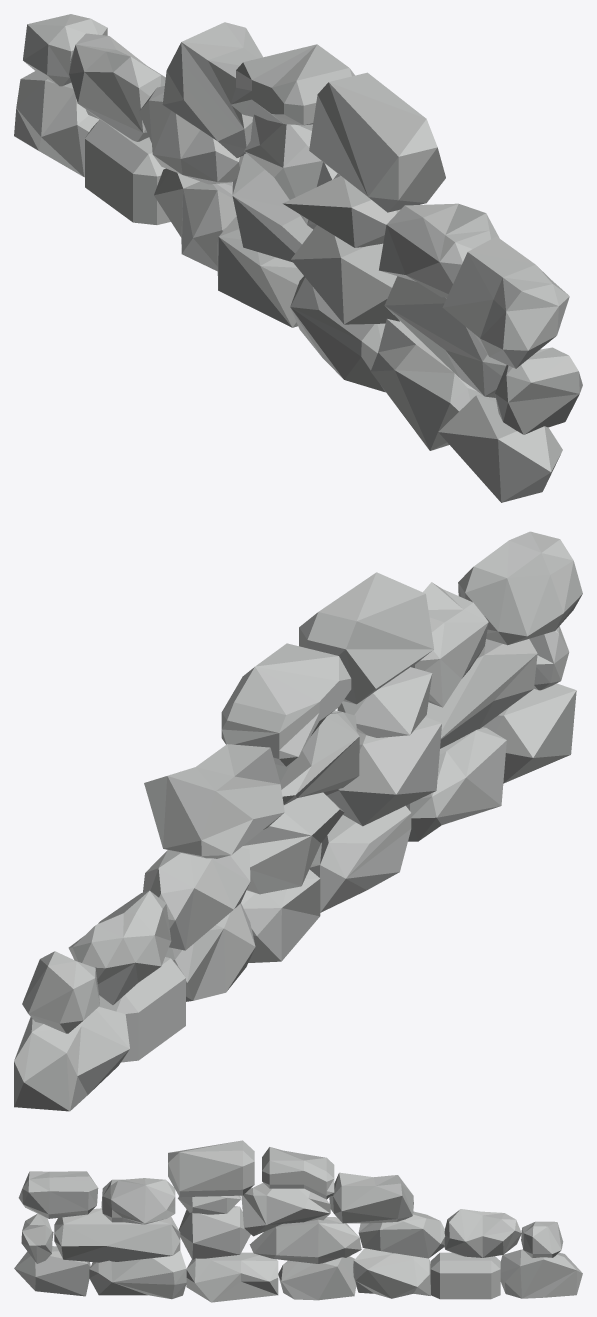
The model's file is Fence_04.glb.
3 renders of one model, top to bottom at view 1: azimuth 30°, elevation 25°; view 2: azimuth 150°, elevation 25°; view 3: azimuth 270°, elevation 25°, orthographic. The views are drawn at different scales.
Parts seen in each view (by area): view 1: Fense_4_stone_1; view 2: Fense_4_stone_1; view 3: Fense_4_stone_1.
Boxes of the visible parts, x1,y1,x2,y2 form: Fense_4_stone_1: (14, 14, 582, 502); Fense_4_stone_1: (14, 531, 582, 1111); Fense_4_stone_1: (14, 1140, 582, 1302).
Bounding box in the file's own units: 0.3801 × 0.8478 × 3.
Materials: 1 (1 with a texture image).
